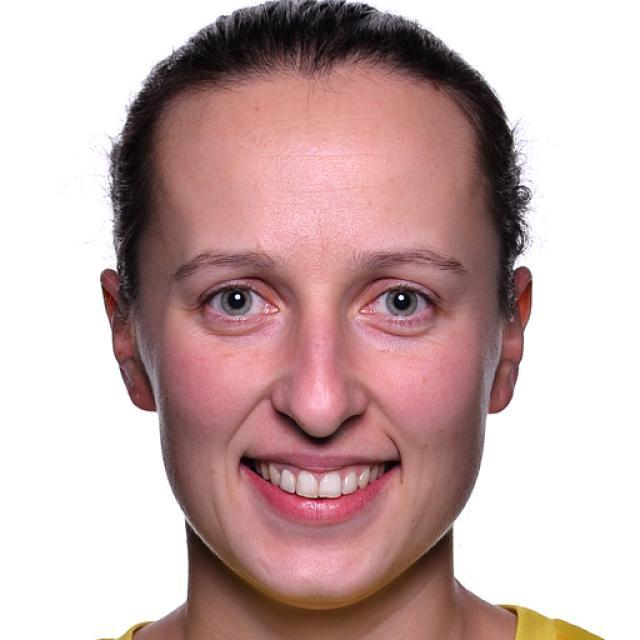happy: (144, 81, 498, 601)
